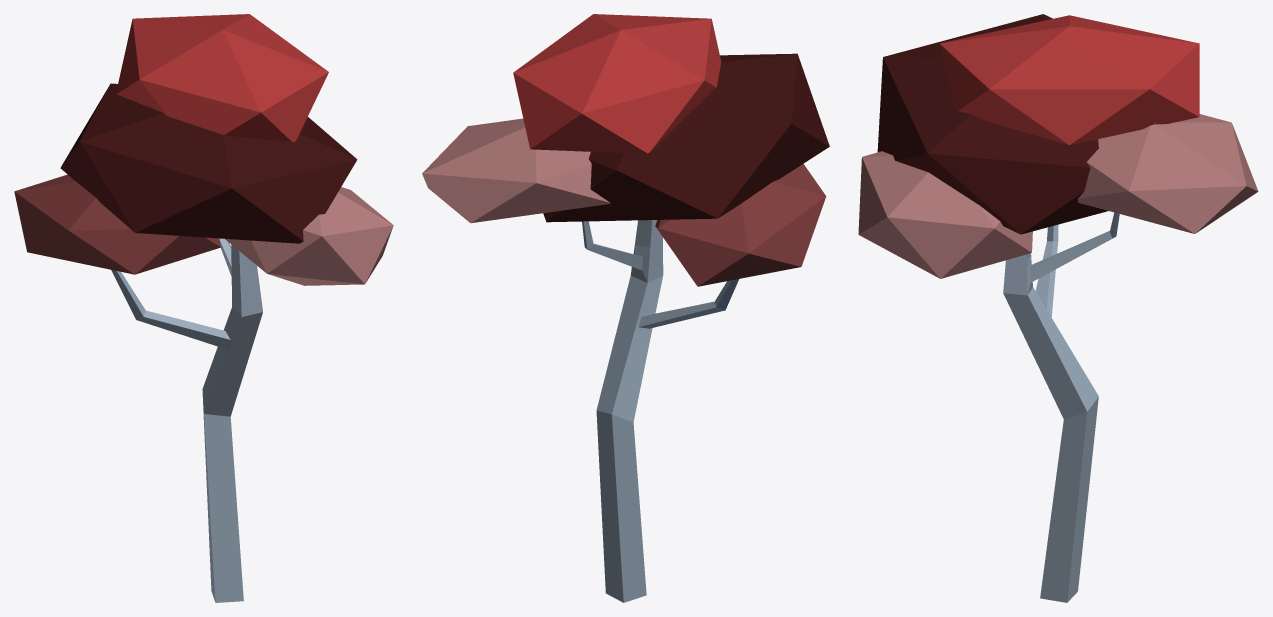
Rendered from TreeAutumn10.fbx.
The picture shows the model from 3 angles, left to right: view 1: azimuth 30°, elevation 25°; view 2: azimuth 150°, elevation 25°; view 3: azimuth 270°, elevation 25°; orthographic projection.
Parts seen in each view (by area): view 1: TreeAutumn10; view 2: TreeAutumn10; view 3: TreeAutumn10.
Part boxes in pixels (<box>): TreeAutumn10: <box>14,14,393,602</box>; TreeAutumn10: <box>422,14,829,602</box>; TreeAutumn10: <box>858,14,1258,602</box>.
Size of the model in its own units: 1 by 1.7 by 1.09.
